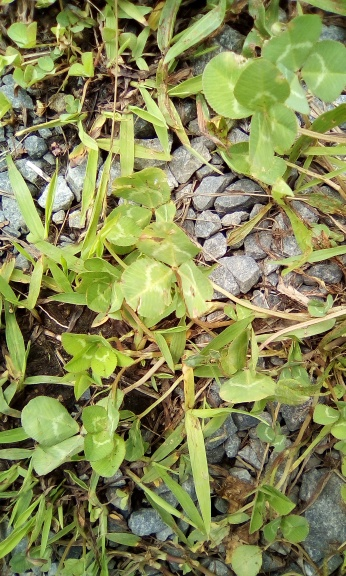4leaf: (59, 331, 135, 377), (82, 401, 126, 478)
